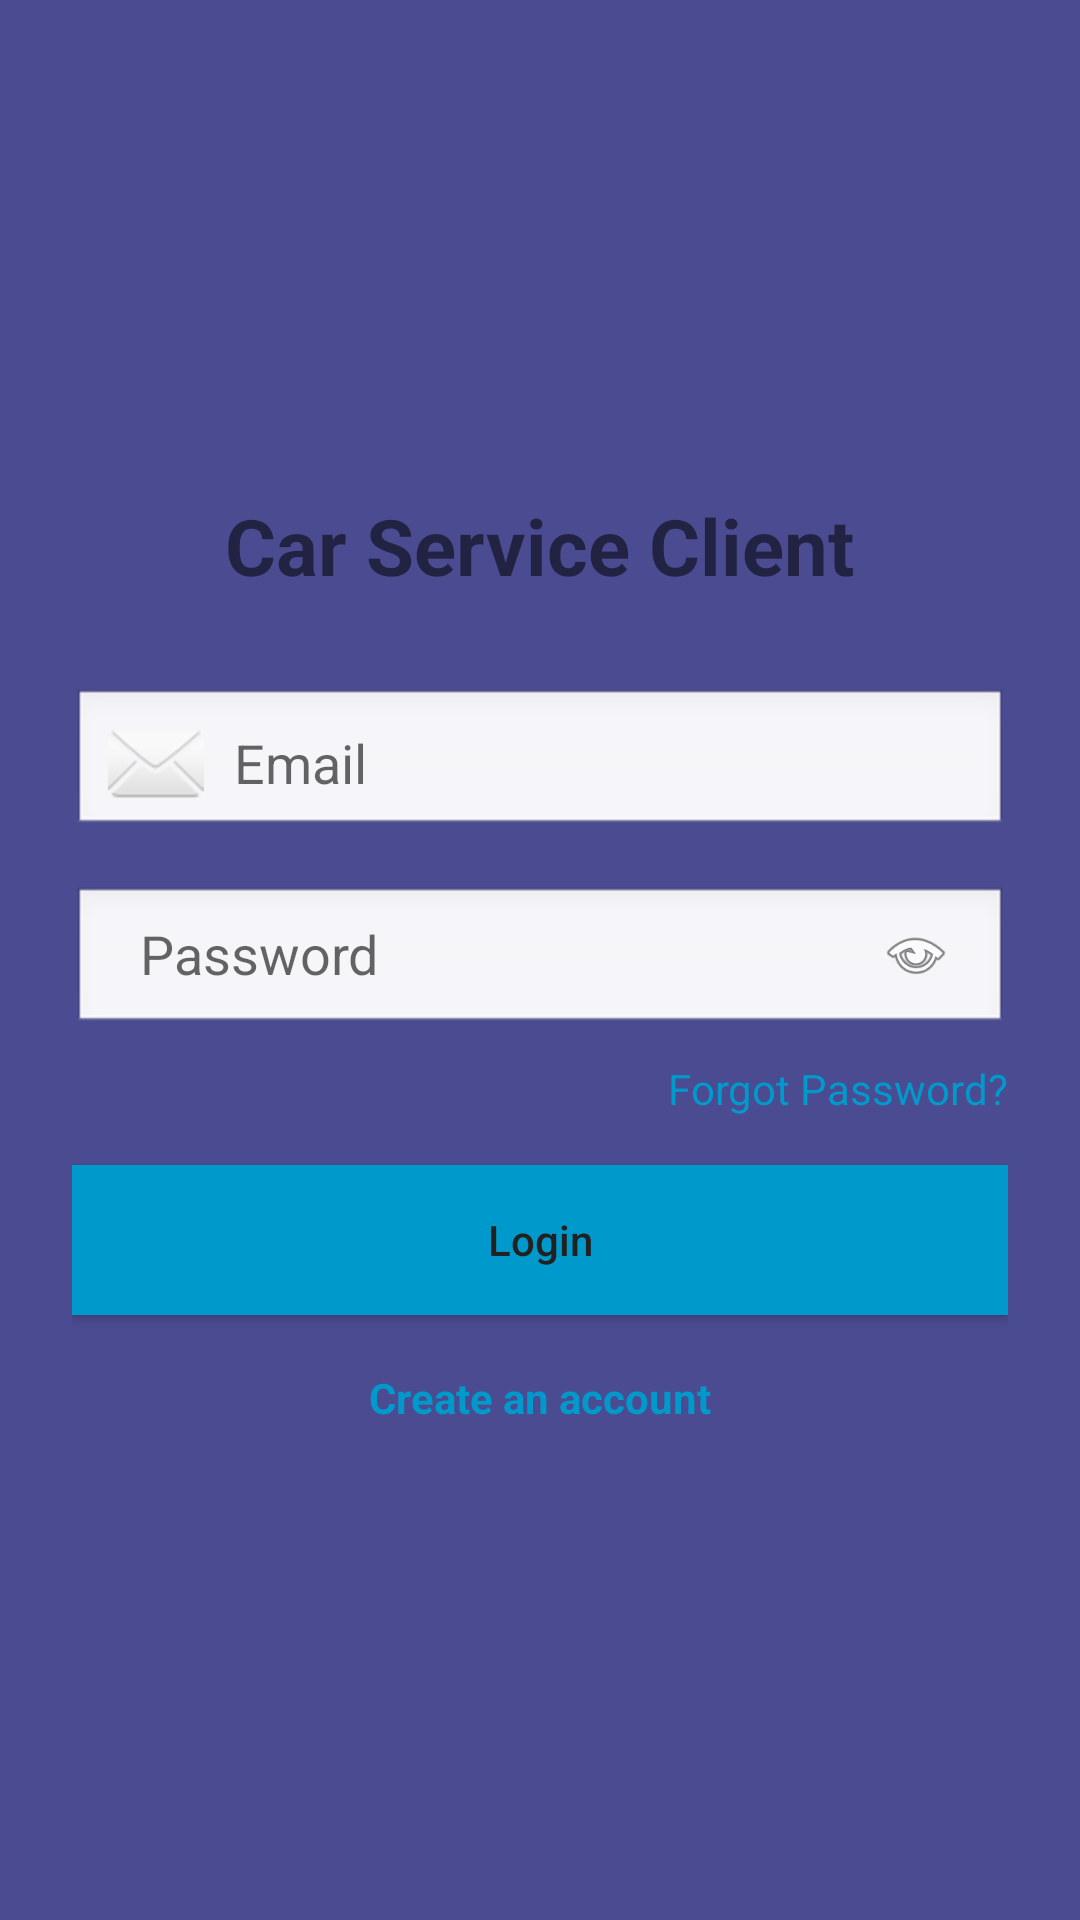

Icon bounding boxes for this 1080w x 1920h phone screenshot, format (x1, y1, x2, y2):
view: (887, 937, 945, 974)
